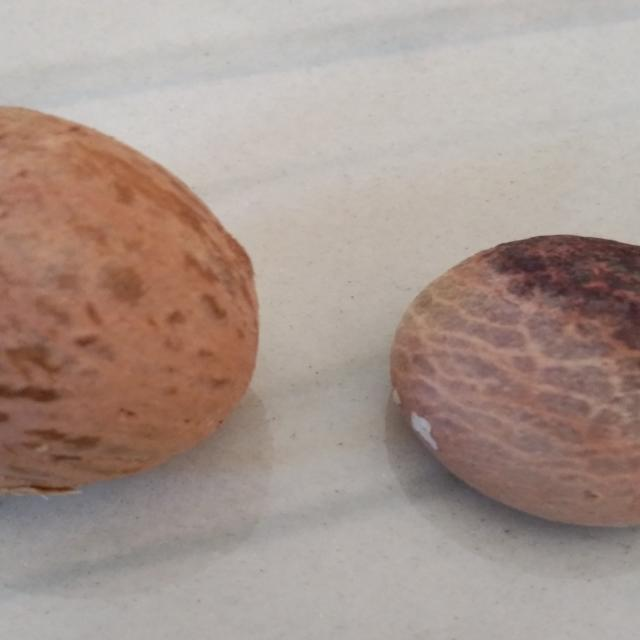good: (0, 84, 258, 489)
karigot: (387, 216, 640, 532)
